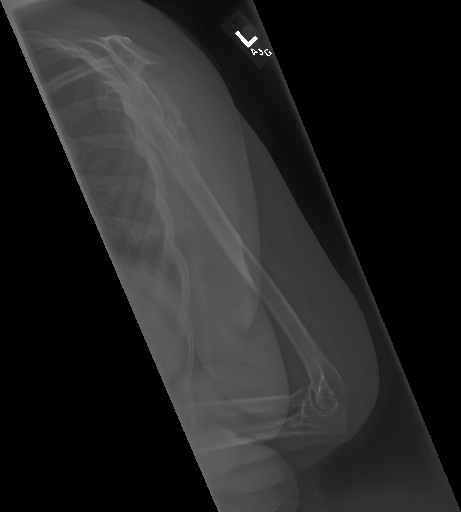fracture: (232, 231, 266, 304)
